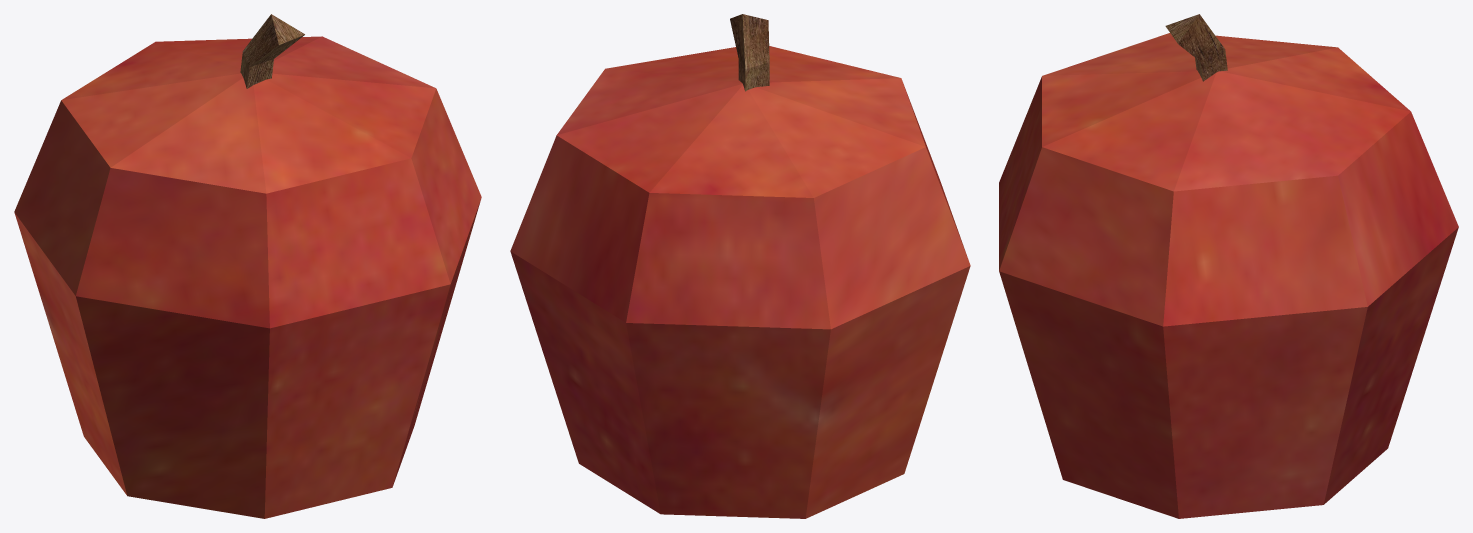
Rendered from apple_vertical.glb.
3 views of the same model, side by side, from view 1: azimuth 30°, elevation 25°; view 2: azimuth 150°, elevation 25°; view 3: azimuth 270°, elevation 25° (orthographic). The views are drawn at different scales.
Parts seen in each view (by area): view 1: AppleRight, AppleLeft, Stem; view 2: AppleRight, AppleLeft, Stem; view 3: AppleLeft, AppleRight, Stem.
Boxes of the visible parts, <box> form: AppleRight: <box>14,39,369,517</box>; AppleLeft: <box>237,36,481,518</box>; Stem: <box>240,14,304,88</box>; AppleRight: <box>600,53,970,518</box>; AppleLeft: <box>510,46,798,515</box>; Stem: <box>730,14,769,91</box>; AppleLeft: <box>999,111,1438,518</box>; AppleRight: <box>999,33,1458,338</box>; Stem: <box>1165,14,1227,81</box>.
Bounding box in the file's own units: 0.9749 × 1.08 × 0.9505.
4 materials, 4 textured.
